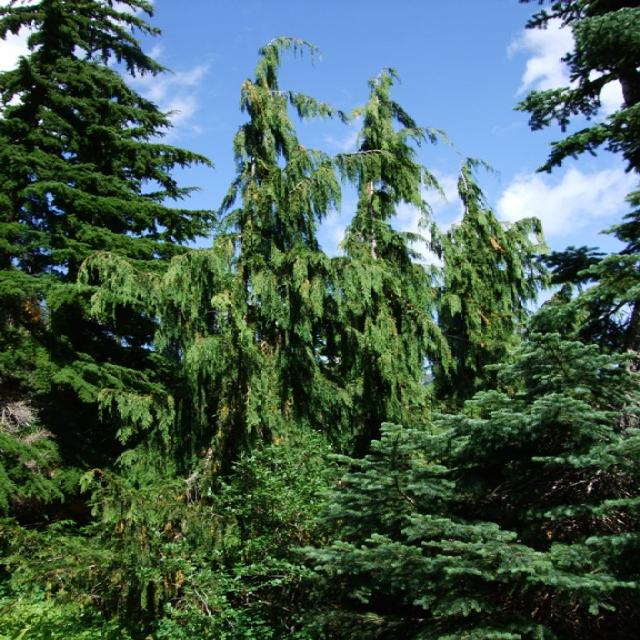Cupressus nootkatensis: (161, 36, 458, 460)
